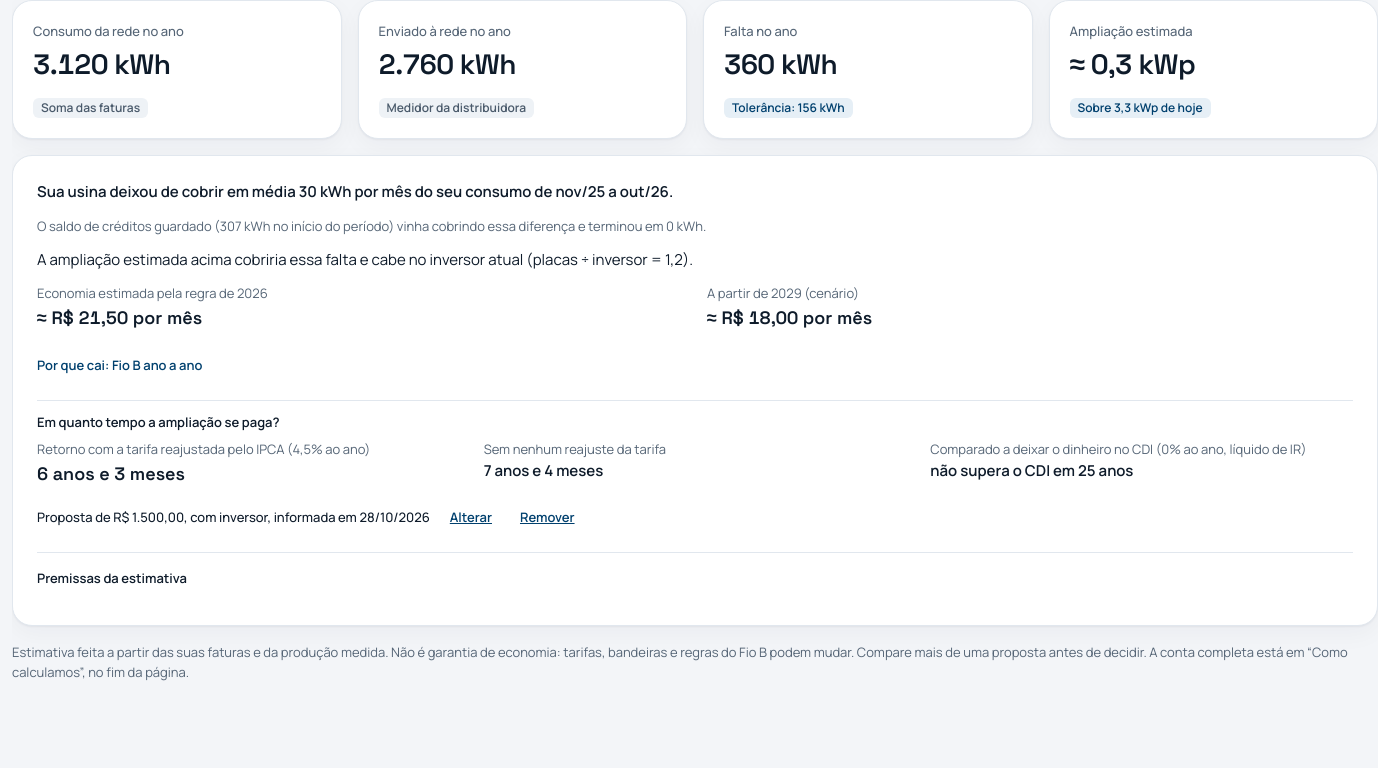
it: retorno da proposta (ADR-089, etapa 2) › Alterar abre o formulário com o inversor salvo e permite cancelar
This screenshot has width=1378, height=768.
Click the button "Alterar" at [471, 518], box top-left (442, 496), bottom-right (500, 540)
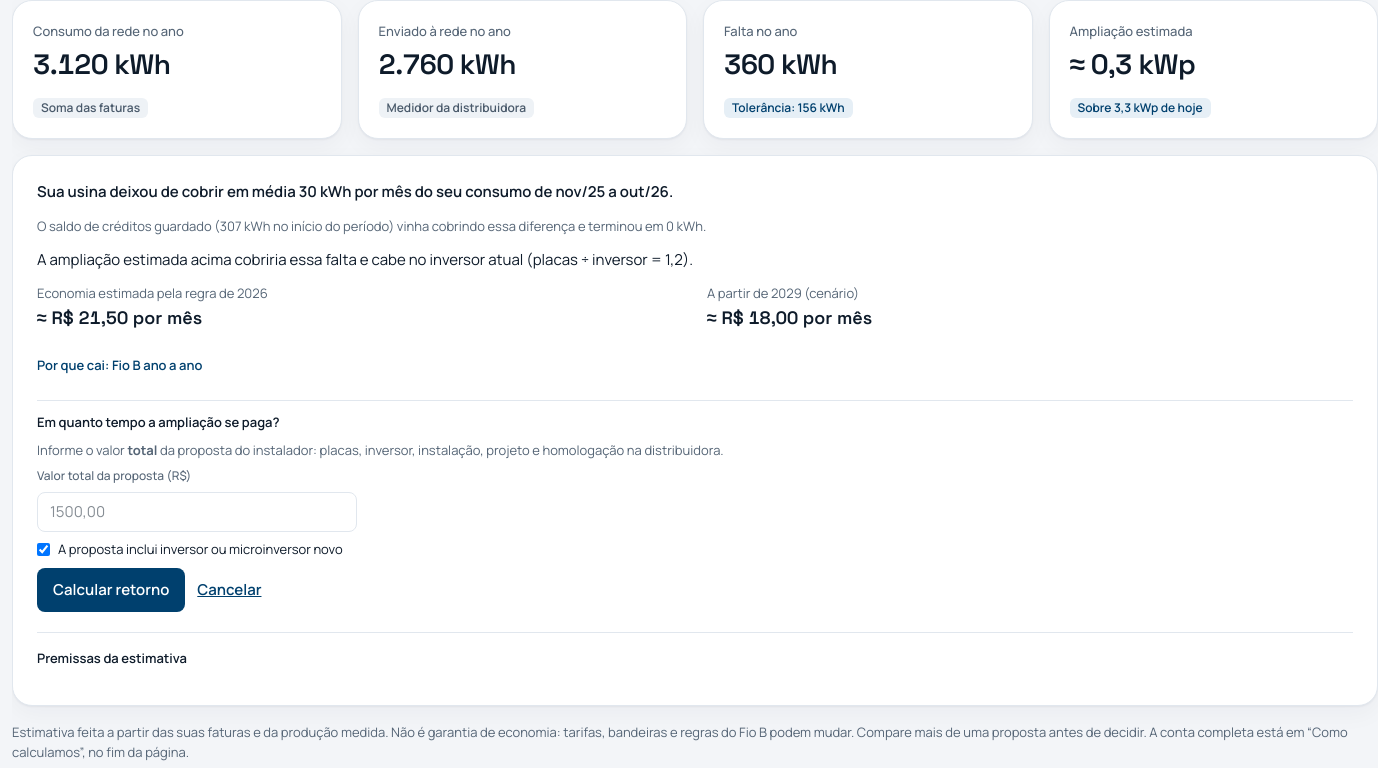
Result: the checkbox labelled "A proposta inclui inversor ou microinversor novo" is checked at top-left (37, 543), bottom-right (50, 556)
Click the button "Cancelar" at [229, 590], box top-left (197, 578), bottom-right (262, 600)
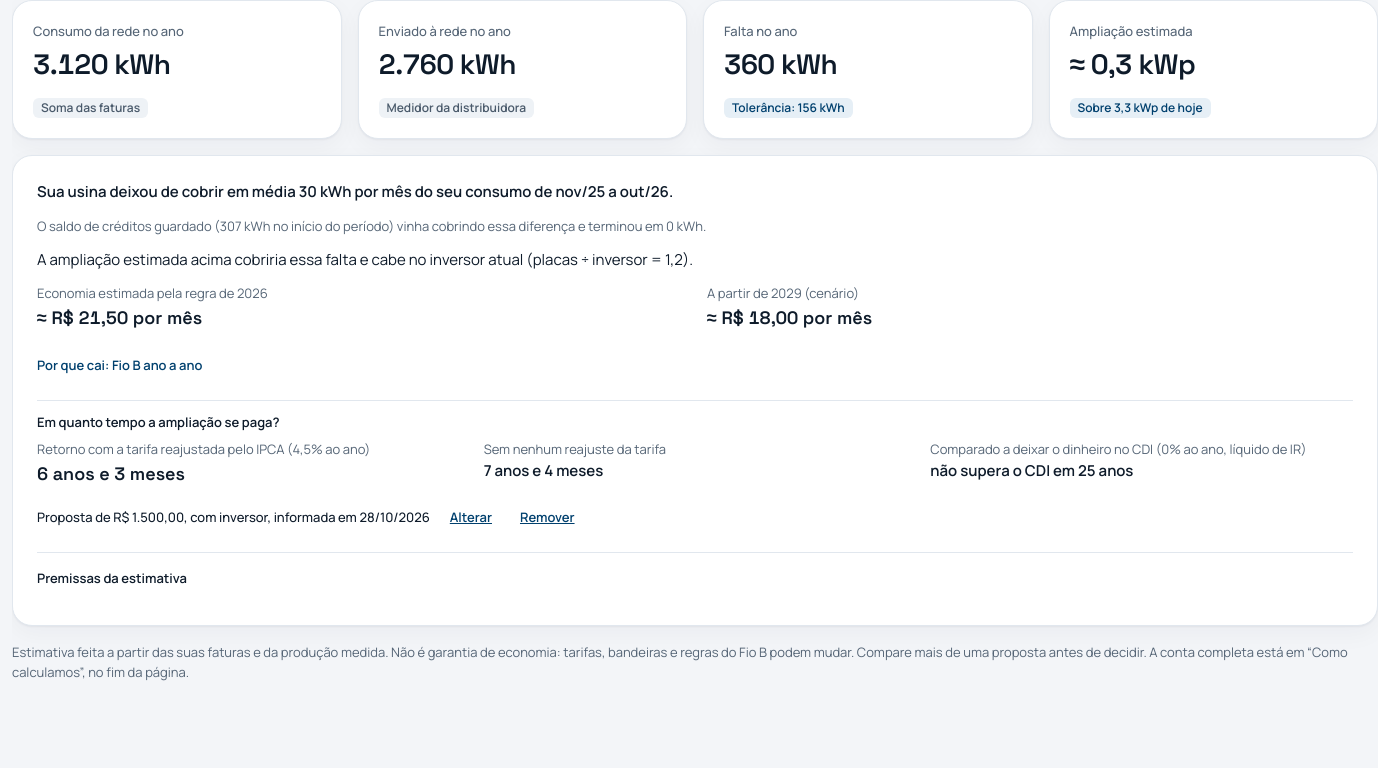
Result: the label labelled "Valor total da proposta (R$)" is gone
